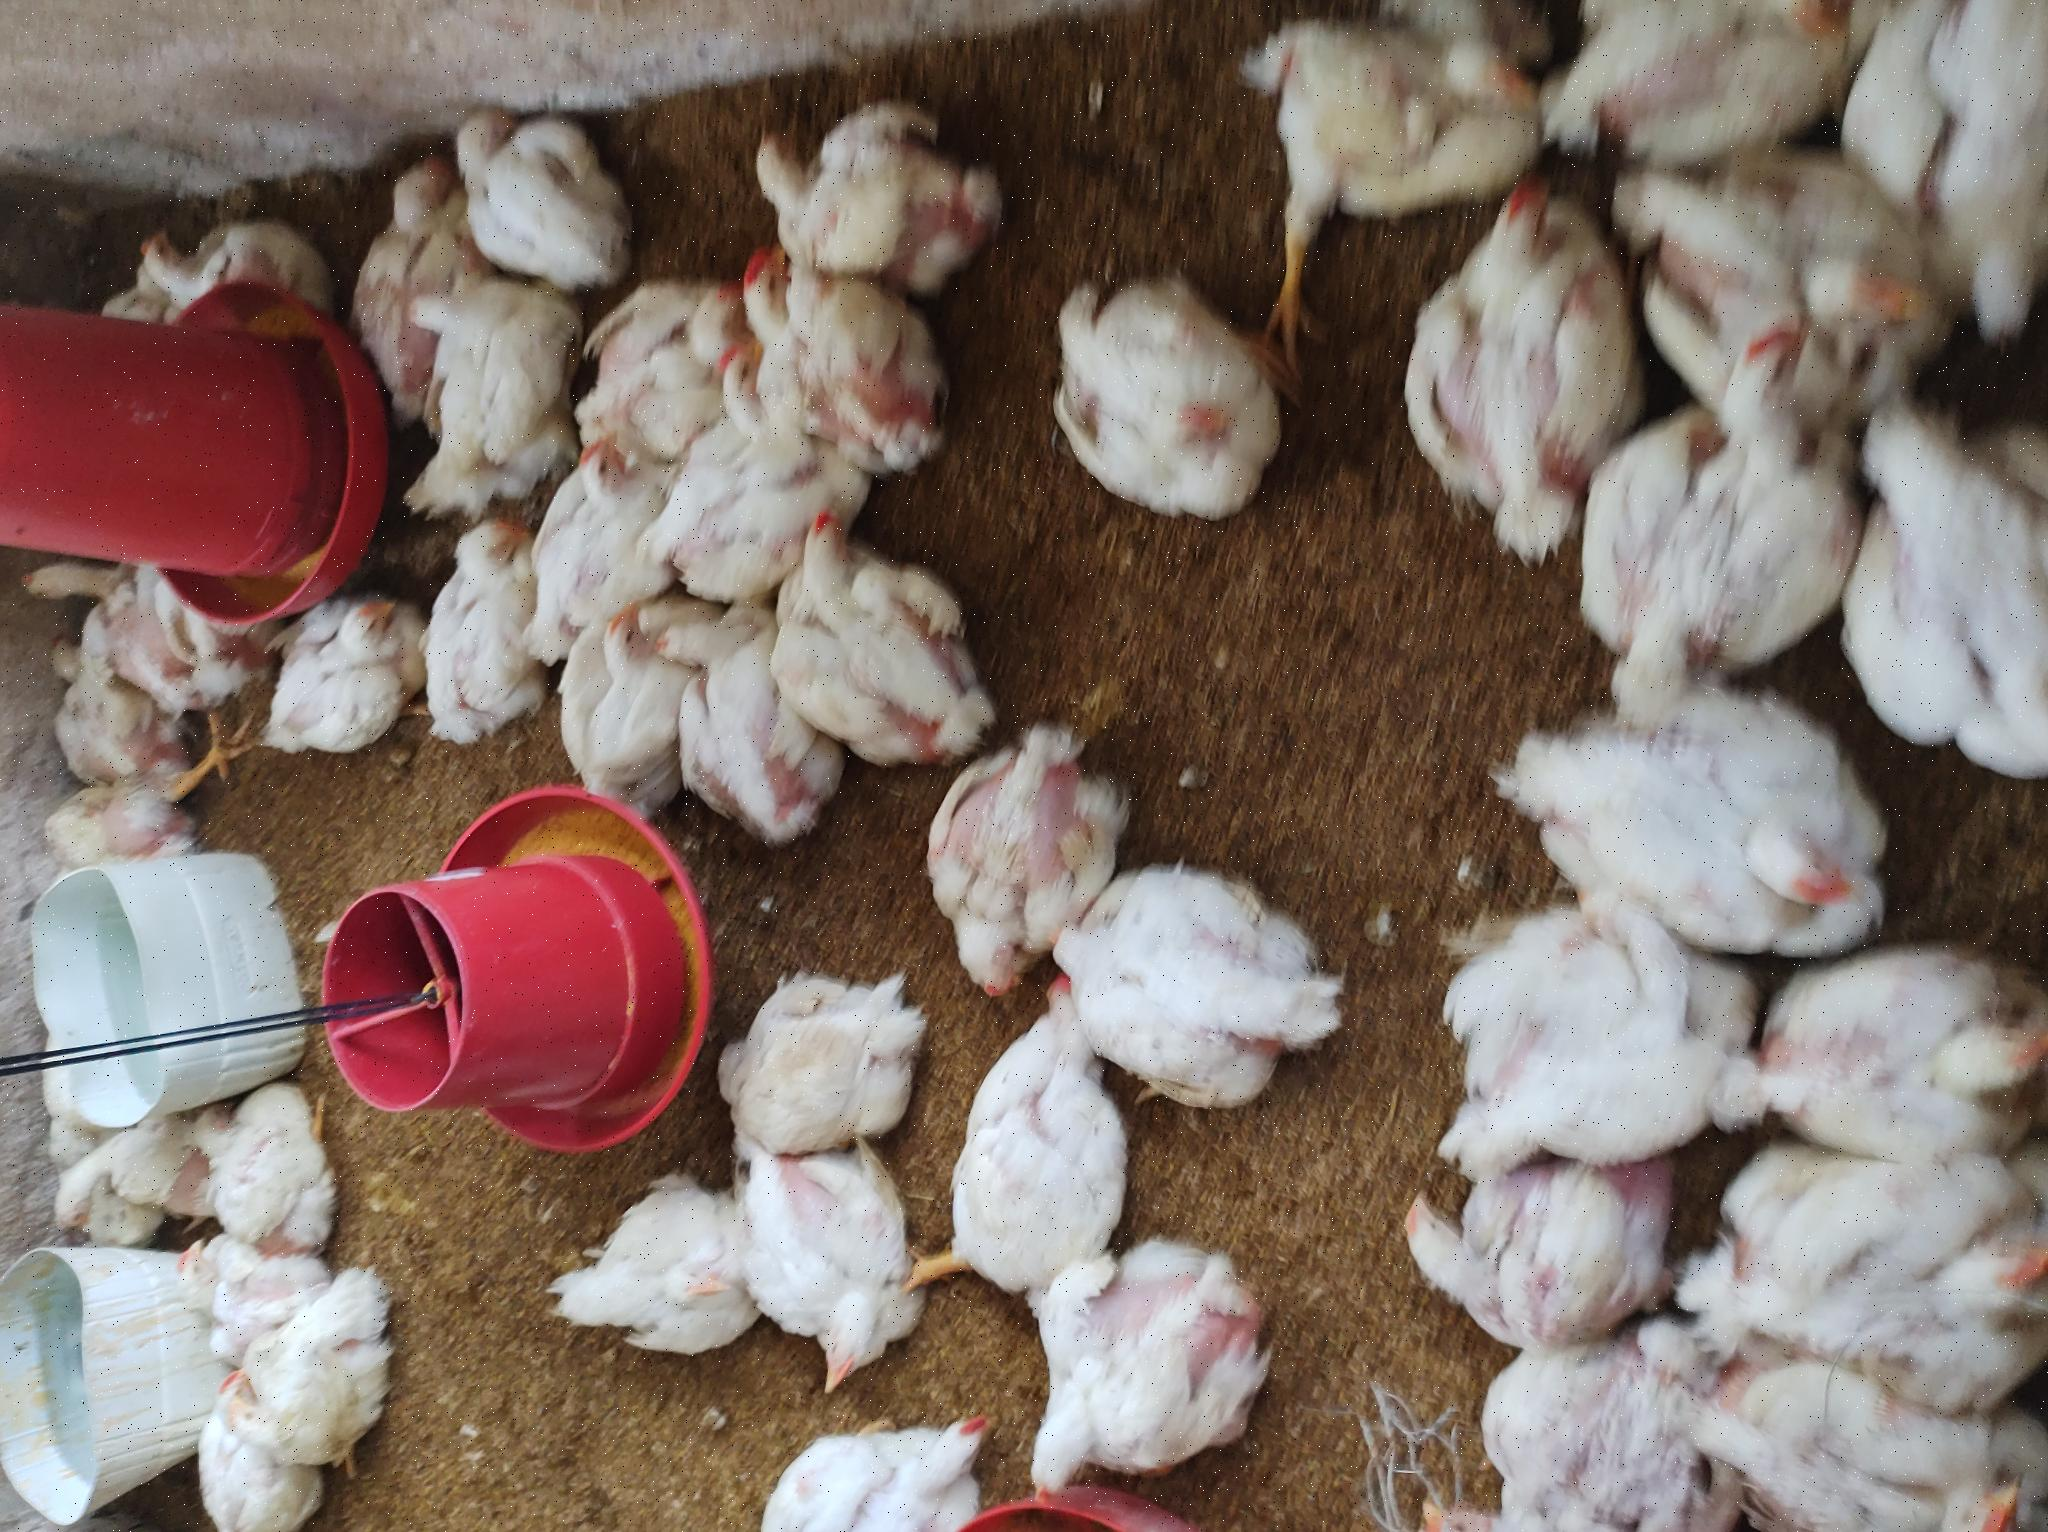Pollos: (10, 1009, 299, 1287), (418, 1064, 676, 1349), (1020, 1032, 1261, 1287), (1334, 1226, 1533, 1532), (253, 935, 557, 1131), (536, 925, 816, 1131), (772, 772, 1017, 990), (1014, 1381, 1348, 1532), (1258, 747, 1446, 999), (137, 734, 376, 920), (372, 708, 579, 922), (1030, 381, 1253, 574), (706, 652, 911, 856), (1086, 745, 1281, 949), (158, 544, 352, 735), (771, 410, 1007, 546), (2, 761, 125, 1019), (204, 1365, 389, 1532), (771, 251, 967, 409), (1096, 576, 1285, 737), (1273, 454, 1433, 636), (911, 504, 1096, 660), (726, 537, 919, 682), (1199, 130, 1335, 333), (742, 40, 869, 219), (388, 1431, 610, 1532), (2, 1419, 187, 1532), (1166, 360, 1372, 446), (660, 47, 750, 217), (39, 183, 175, 262), (348, 193, 447, 299), (224, 171, 302, 278), (302, 47, 389, 142), (1100, 695, 1174, 789), (915, 23, 985, 106), (82, 225, 137, 301)
